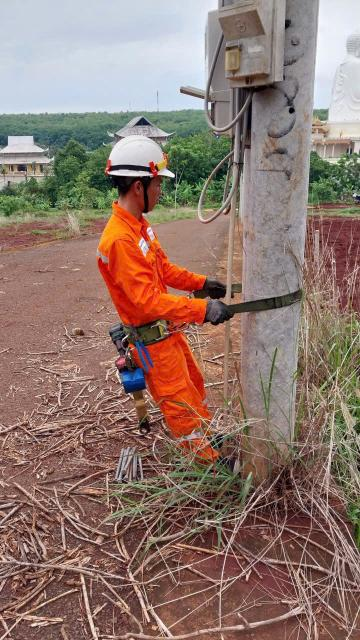gloves: (193, 296, 244, 330), (191, 271, 243, 298)
harness: (85, 310, 204, 339)
helmet: (82, 129, 195, 188)
shoes: (188, 456, 252, 487), (184, 427, 246, 448)
